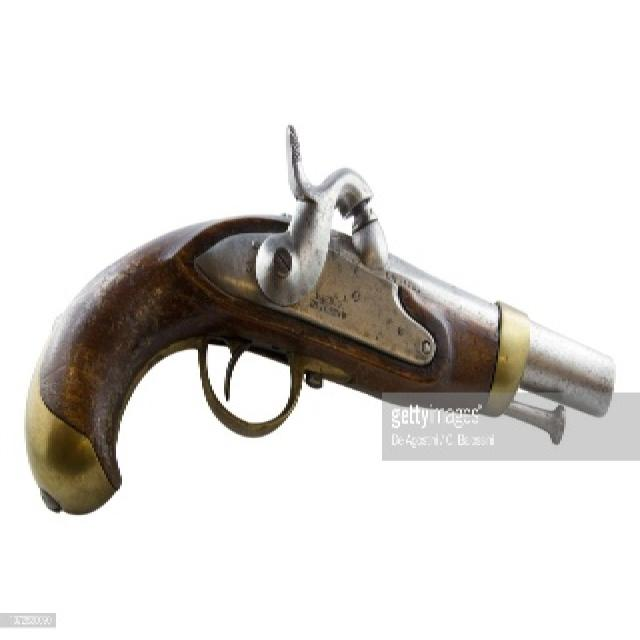handgun: (17, 124, 617, 508)
